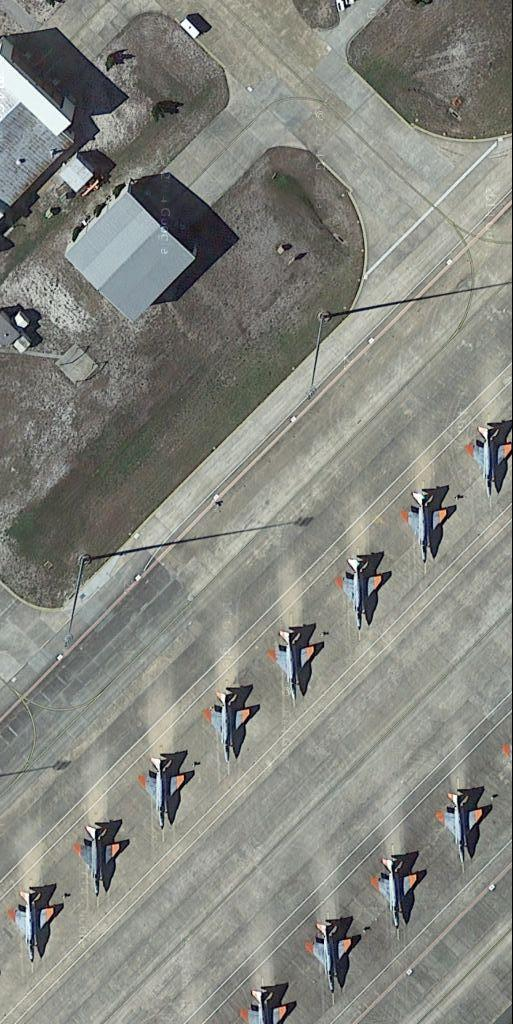plane: (263, 618, 326, 710), (332, 546, 395, 634), (199, 682, 262, 770), (431, 777, 488, 874), (396, 481, 455, 569), (69, 817, 130, 902), (135, 744, 194, 831), (364, 851, 423, 932), (303, 911, 356, 998), (6, 882, 59, 963), (461, 417, 509, 506)
